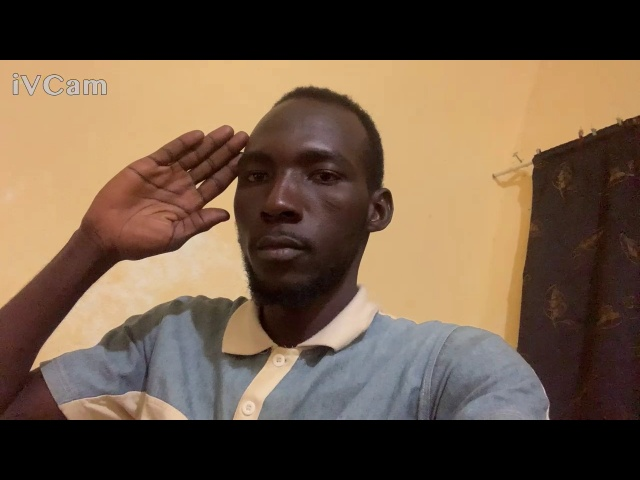bonjour: (77, 118, 258, 285)
